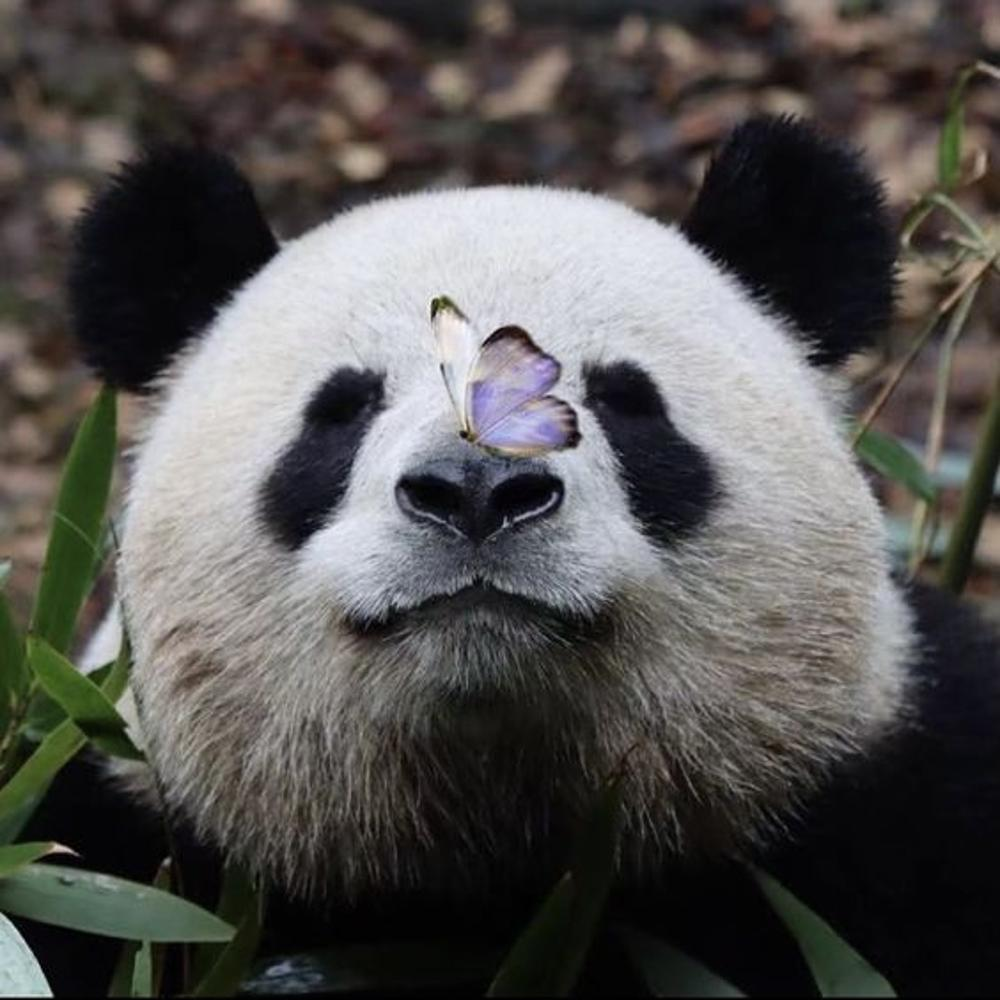panda: (56, 108, 1000, 902)
